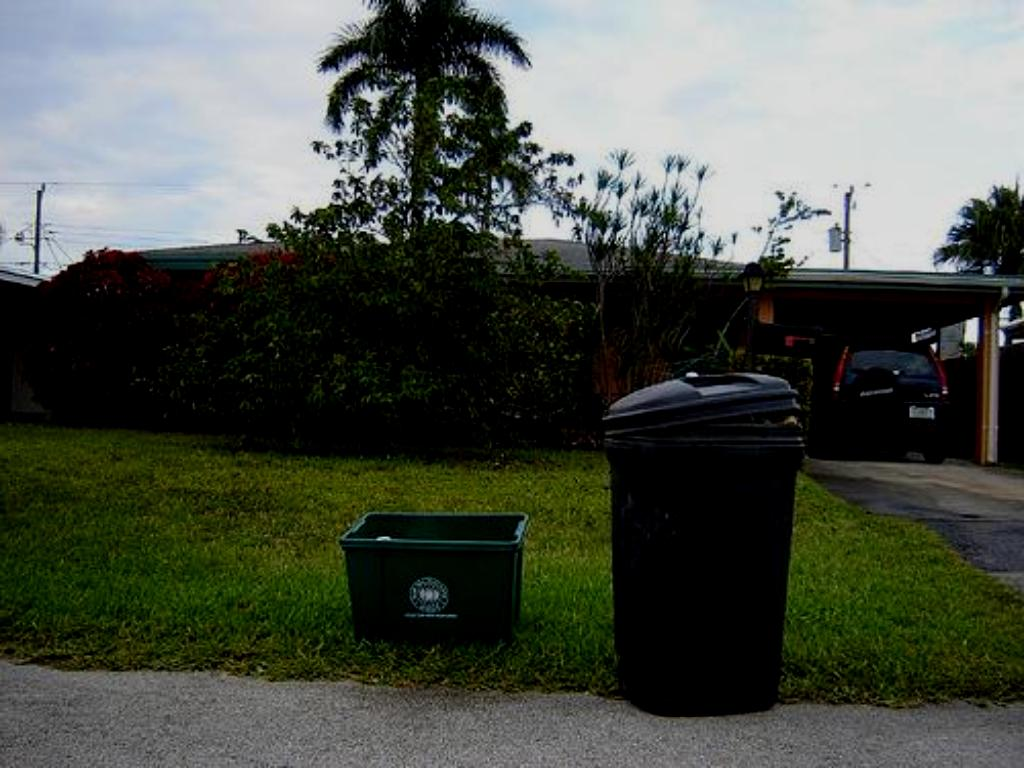dustbin: (587, 358, 806, 719), (310, 499, 530, 664)
